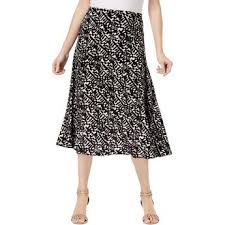C_skirt: (49, 5, 179, 166)
